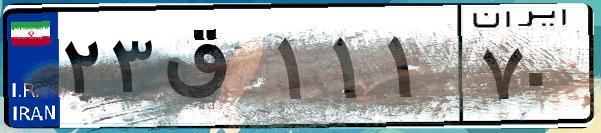0: (525, 38, 570, 115)
1: (270, 28, 330, 110), (385, 28, 445, 110), (330, 28, 385, 110)
2: (57, 26, 110, 100)
3: (110, 28, 158, 98)
7: (475, 38, 525, 113)
ق: (158, 20, 270, 120)
